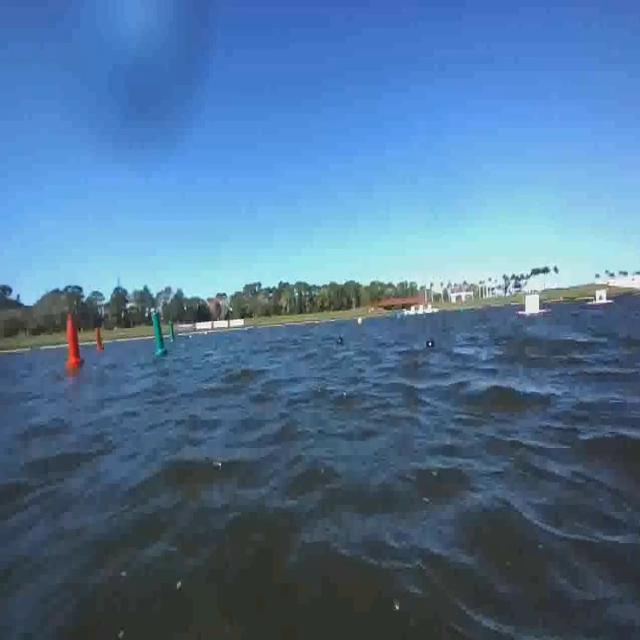black-buoy: (427, 336, 436, 352), (336, 335, 344, 345)
green-column-buoy: (152, 312, 169, 356), (169, 318, 177, 342)
red-column-buoy: (66, 312, 84, 368), (96, 326, 106, 351)
